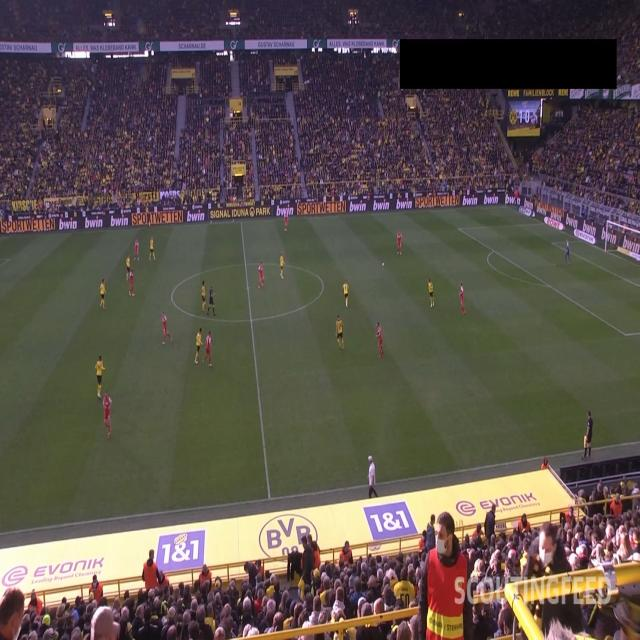ball: (382, 261, 384, 267)
